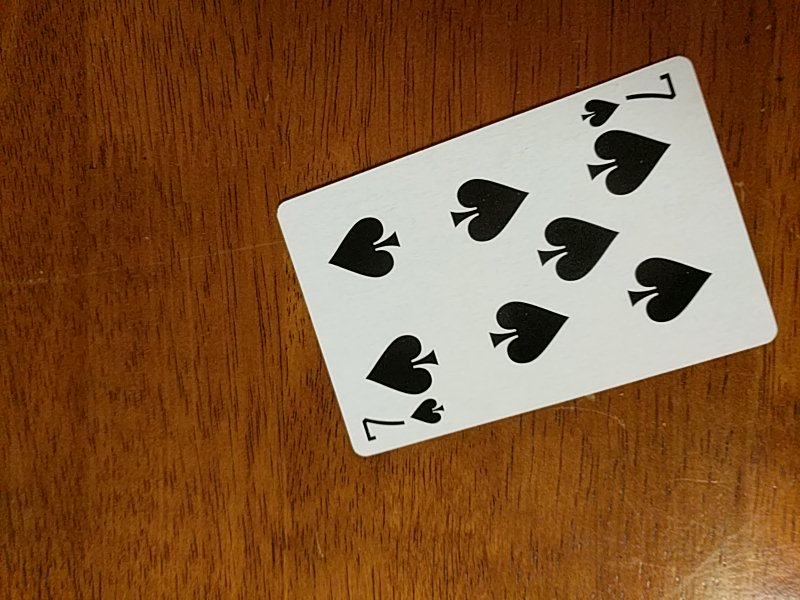Spades: (273, 53, 780, 458)
